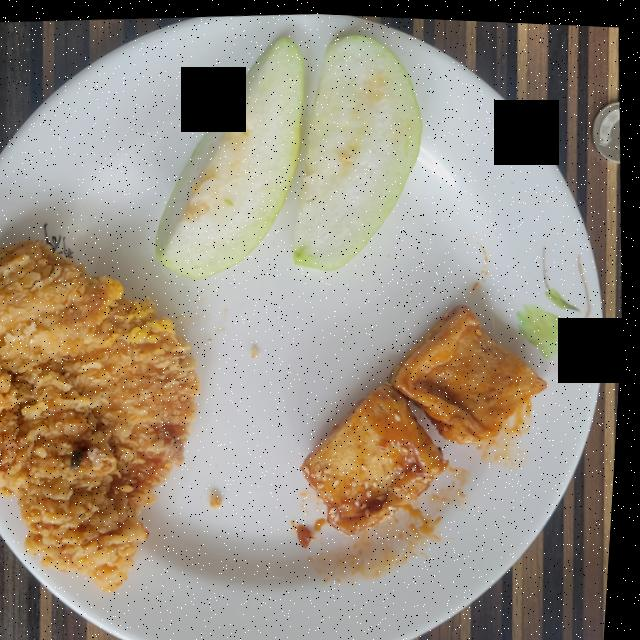coin: (592, 96, 622, 157)
creamy tofu: (305, 301, 549, 531)
fried chicken cutlet: (0, 239, 203, 590)
guava -sliced-: (157, 32, 421, 276)
